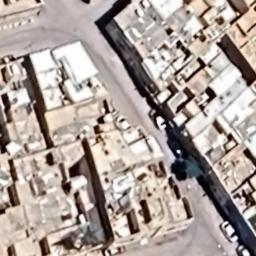sedan: (219, 218, 242, 246)
